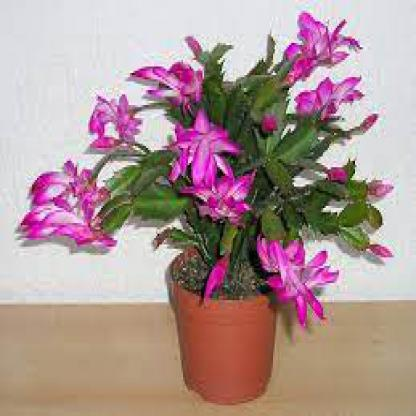Aglonema: (47, 21, 398, 399)
